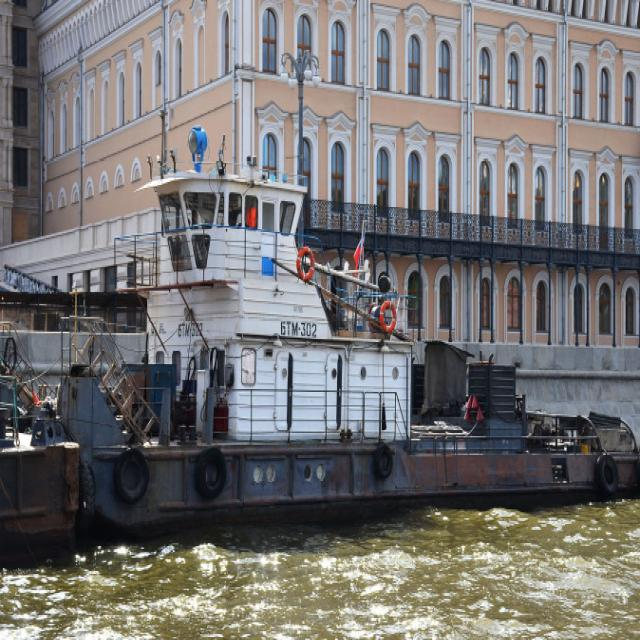tugboat: (1, 107, 640, 557)
